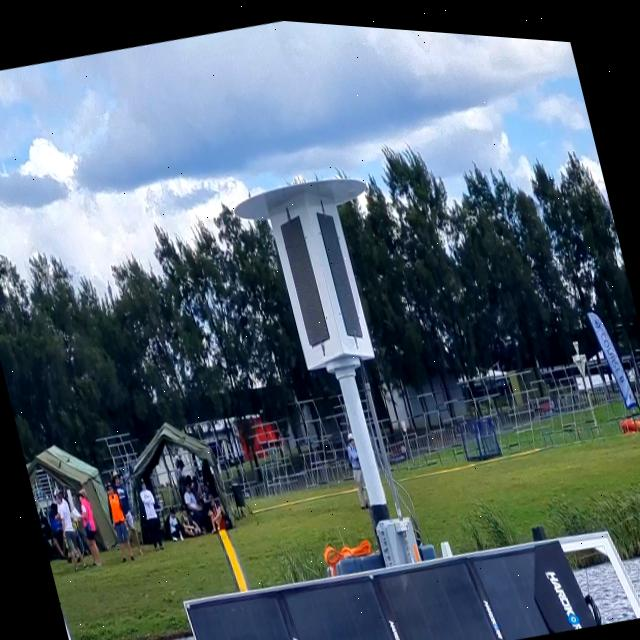led: (272, 191, 370, 355), (306, 188, 369, 345), (273, 206, 337, 348)
